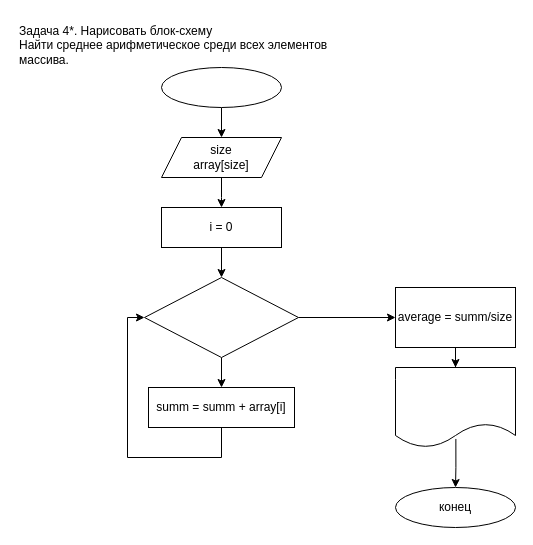
This 533x545 diagram has some shape labels left out. The box of each missing label's shape, as (x1, y1, x2, y2) in pixels:
average: (394, 366, 516, 448)
i < size: (144, 276, 298, 358)
Начало: (160, 66, 282, 108)
